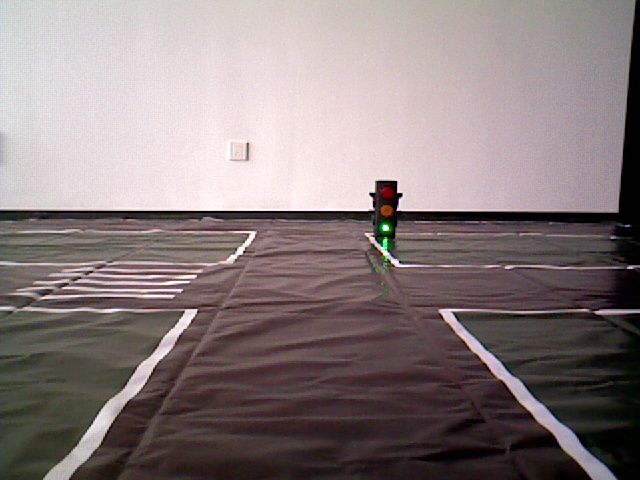green: (374, 184, 397, 235)
